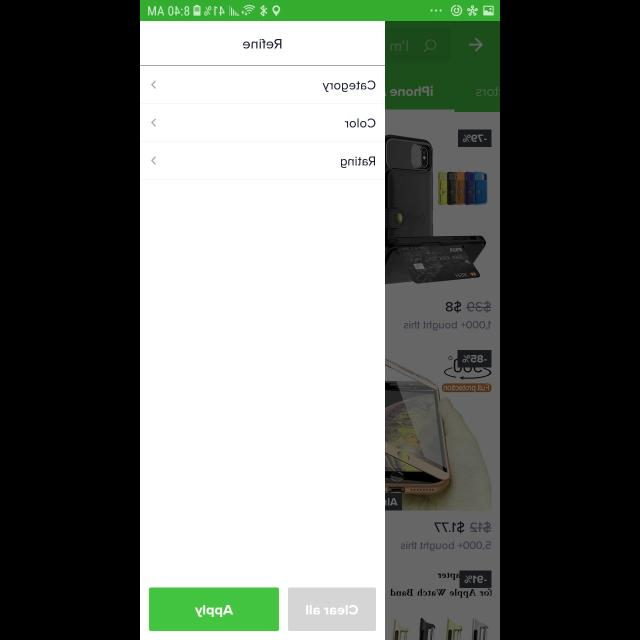icon: (150, 119, 156, 127), (152, 80, 156, 90), (152, 157, 156, 166)
panel: (140, 22, 384, 640)
text: (322, 80, 376, 92), (341, 156, 375, 168), (242, 39, 282, 49), (344, 119, 376, 128)
textbutton: (149, 587, 279, 631), (288, 587, 376, 631)
uppertaskbar: (140, 1, 500, 22)
